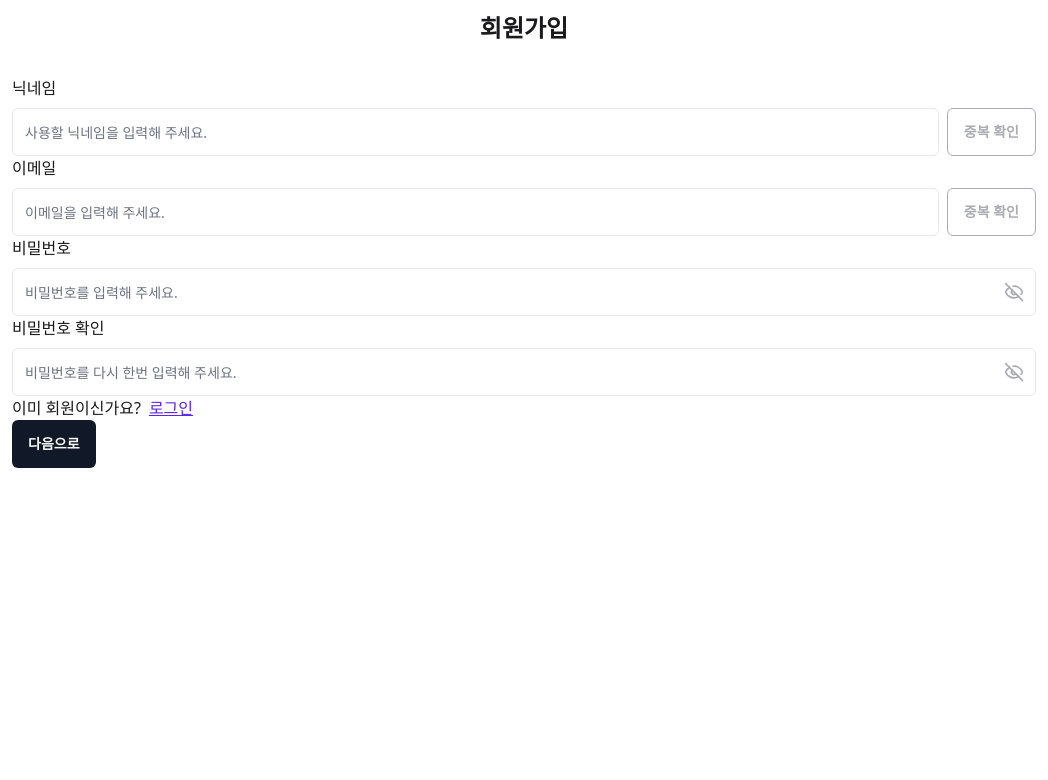
Test: StepOne 컴포넌트 › 유효성 검사 › 이메일 형식이 올바르지 않으면 에러 메시지가 표시된다
The width and height of the screenshot is (1048, 780).
Type "invalid-email" into the field with placeholder "이메일을 입력해 주세요." at coordinates (475, 212), box [12, 188, 939, 236]
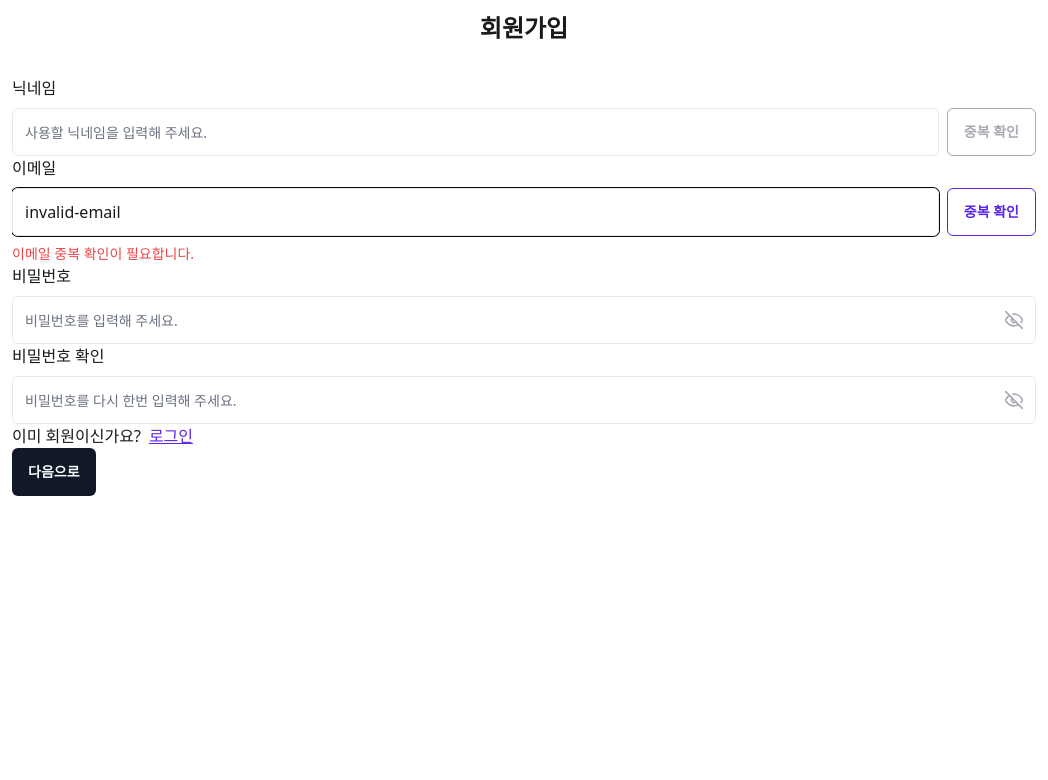
Click the button "다음으로" at coordinates (54, 472), box [12, 448, 96, 496]
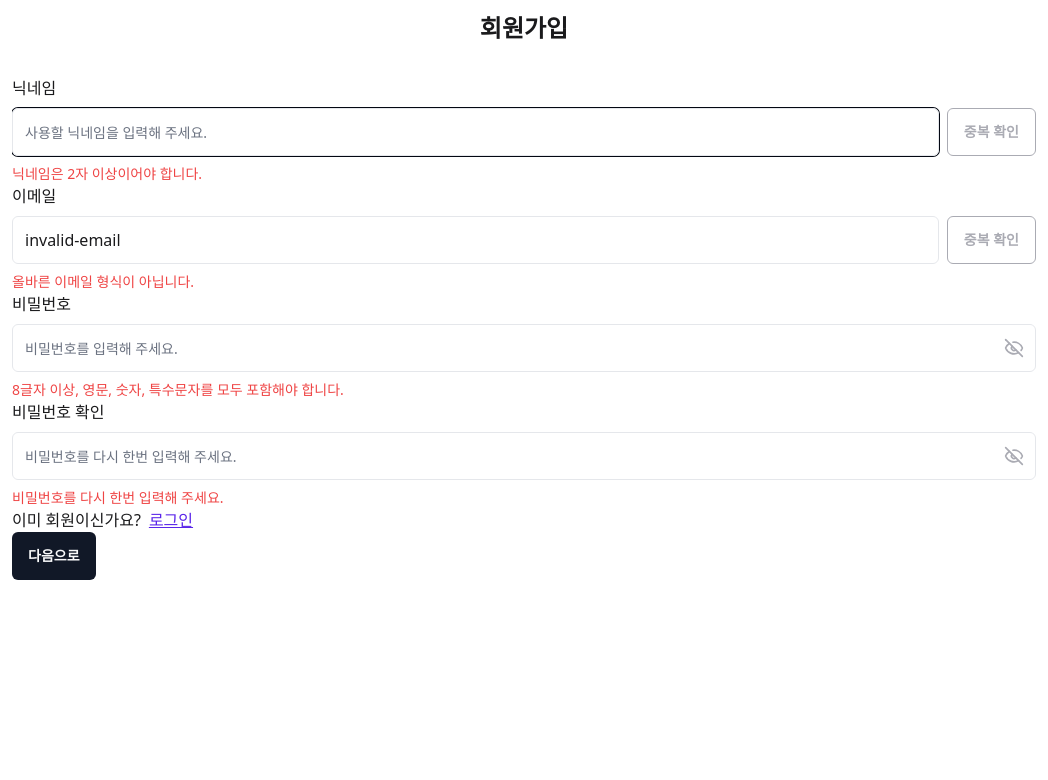
Now the text "올바른 이메일 형식이 아닙니다." is shown, box [12, 272, 194, 291]
